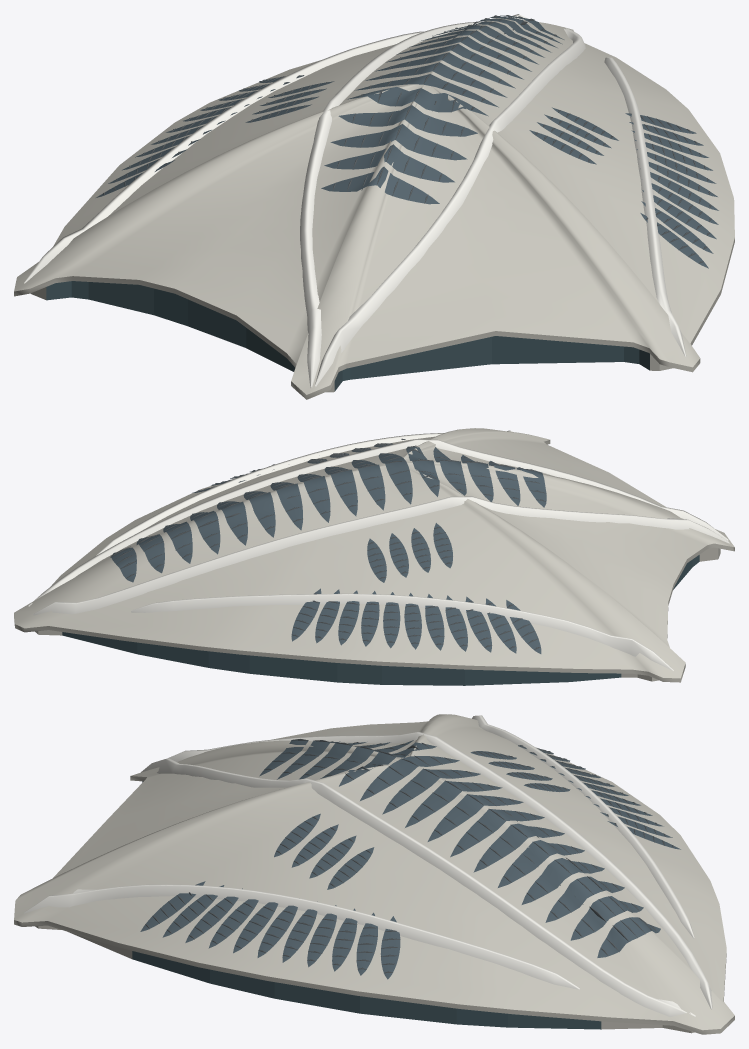
Rendered from biodome-de-montreal-far.glb.
3 renders of one model, top to bottom at view 1: azimuth 30°, elevation 25°; view 2: azimuth 150°, elevation 25°; view 3: azimuth 270°, elevation 25°, orthographic. The views are drawn at different scales.
Visible parts, largest first — view 1: biodome-de-montreal-0-concrete, biodome-de-montreal-0-skylight, biodome-de-montreal-0-rib, biodome-de-montreal-0-glass, biodome-de-montreal-0-frame; view 2: biodome-de-montreal-0-concrete, biodome-de-montreal-0-skylight, biodome-de-montreal-0-rib, biodome-de-montreal-0-glass, biodome-de-montreal-0-frame; view 3: biodome-de-montreal-0-concrete, biodome-de-montreal-0-skylight, biodome-de-montreal-0-rib, biodome-de-montreal-0-glass, biodome-de-montreal-0-frame.
Boxes of the visible parts, left/top/right/bottom form: biodome-de-montreal-0-concrete: left=14, top=18, right=734, bottom=399; biodome-de-montreal-0-skylight: left=96, top=15, right=718, bottom=268; biodome-de-montreal-0-rib: left=24, top=14, right=686, bottom=387; biodome-de-montreal-0-glass: left=46, top=281, right=649, bottom=391; biodome-de-montreal-0-frame: left=103, top=15, right=711, bottom=263; biodome-de-montreal-0-concrete: left=14, top=428, right=734, bottom=682; biodome-de-montreal-0-skylight: left=110, top=443, right=546, bottom=653; biodome-de-montreal-0-rib: left=28, top=430, right=729, bottom=670; biodome-de-montreal-0-glass: left=62, top=555, right=699, bottom=685; biodome-de-montreal-0-frame: left=111, top=438, right=546, bottom=649; biodome-de-montreal-0-concrete: left=14, top=714, right=734, bottom=1034; biodome-de-montreal-0-skylight: left=140, top=740, right=680, bottom=979; biodome-de-montreal-0-rib: left=24, top=715, right=712, bottom=1016; biodome-de-montreal-0-glass: left=132, top=781, right=601, bottom=1029; biodome-de-montreal-0-frame: left=145, top=739, right=673, bottom=973.
Bounding box in the file's own units: 160 × 33.82 × 158.
